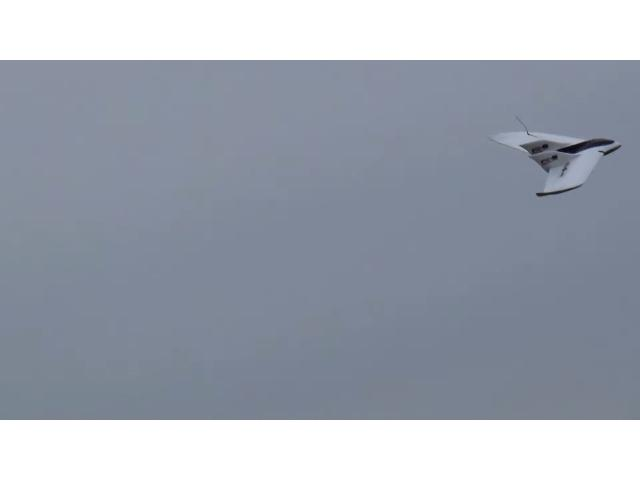Anti-Drone: (488, 131, 622, 196)
